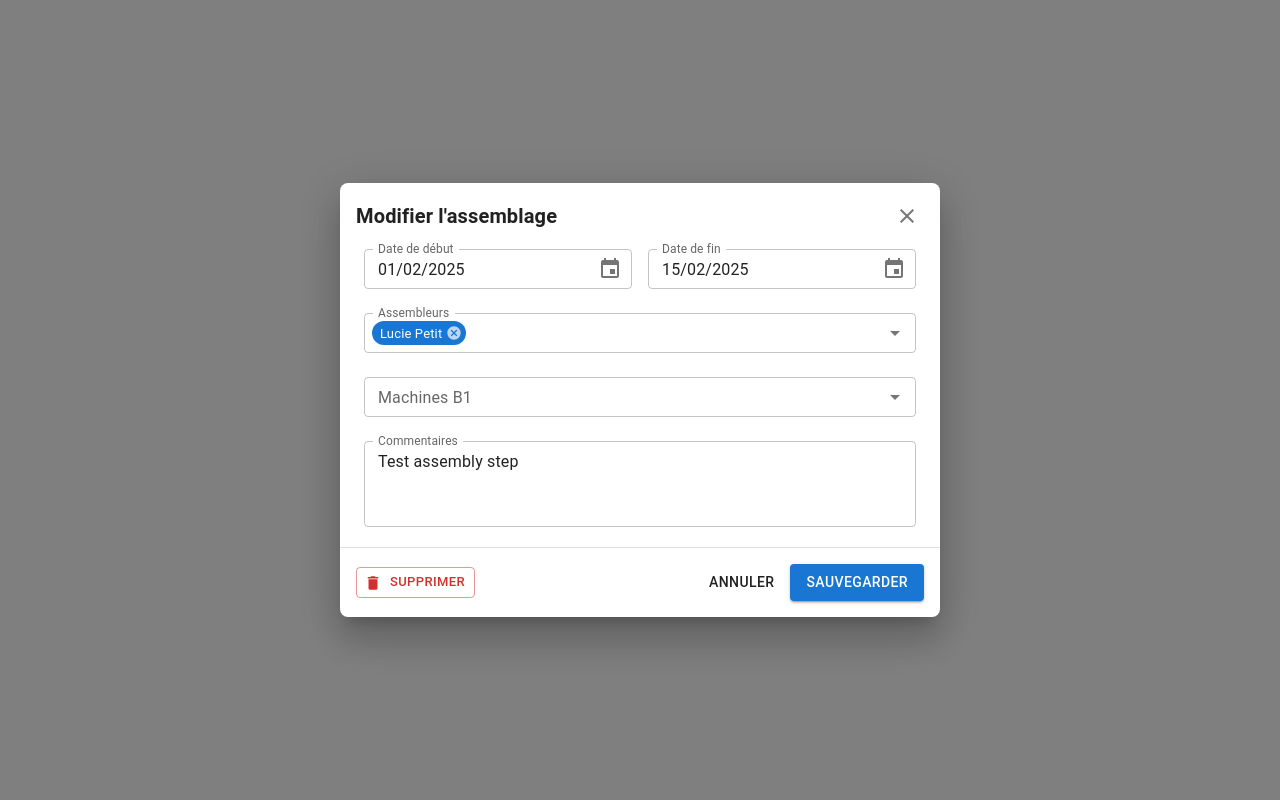
Test: AssemblyStepModal › Delete Mode › should show confirmation before delete
Click the button "Supprimer" at {"x": 416, "y": 582}, box [356, 567, 475, 598]
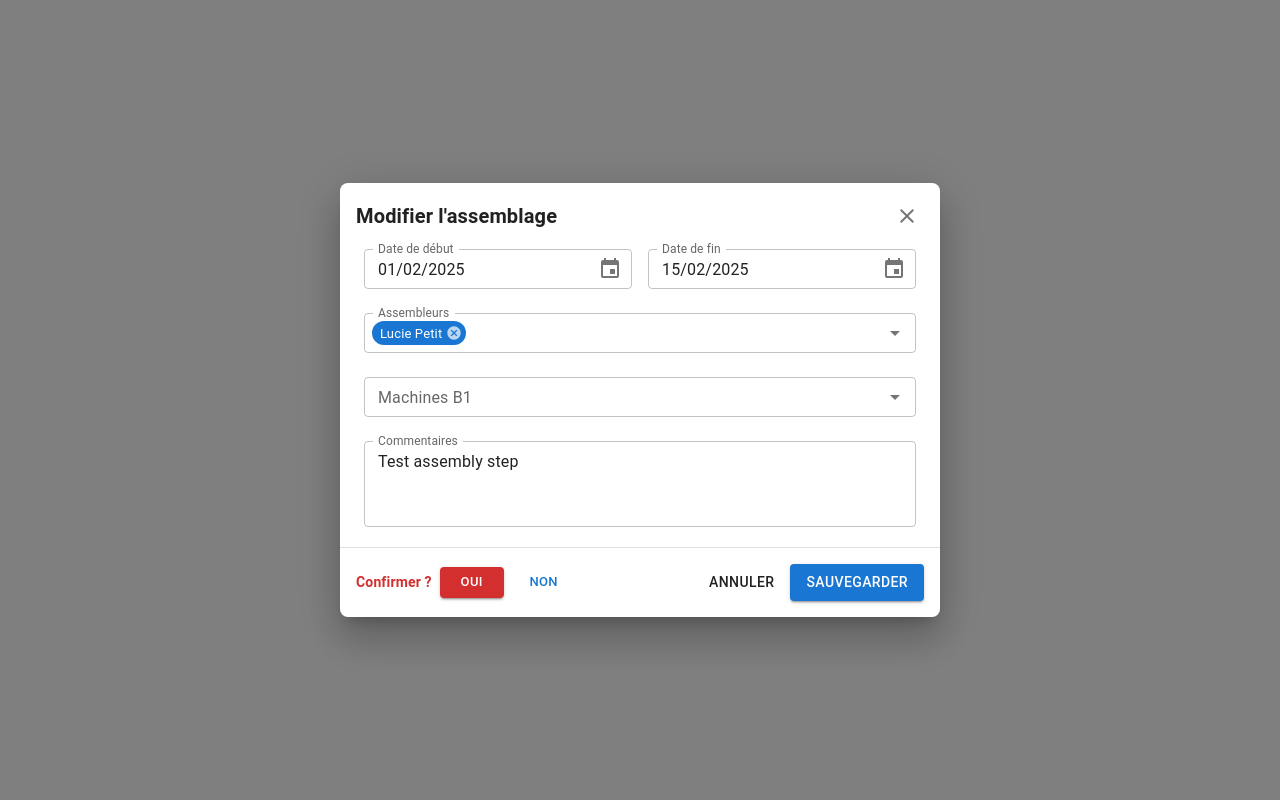
Now the text "Confirmer ?" is shown, box [356, 572, 432, 592]
